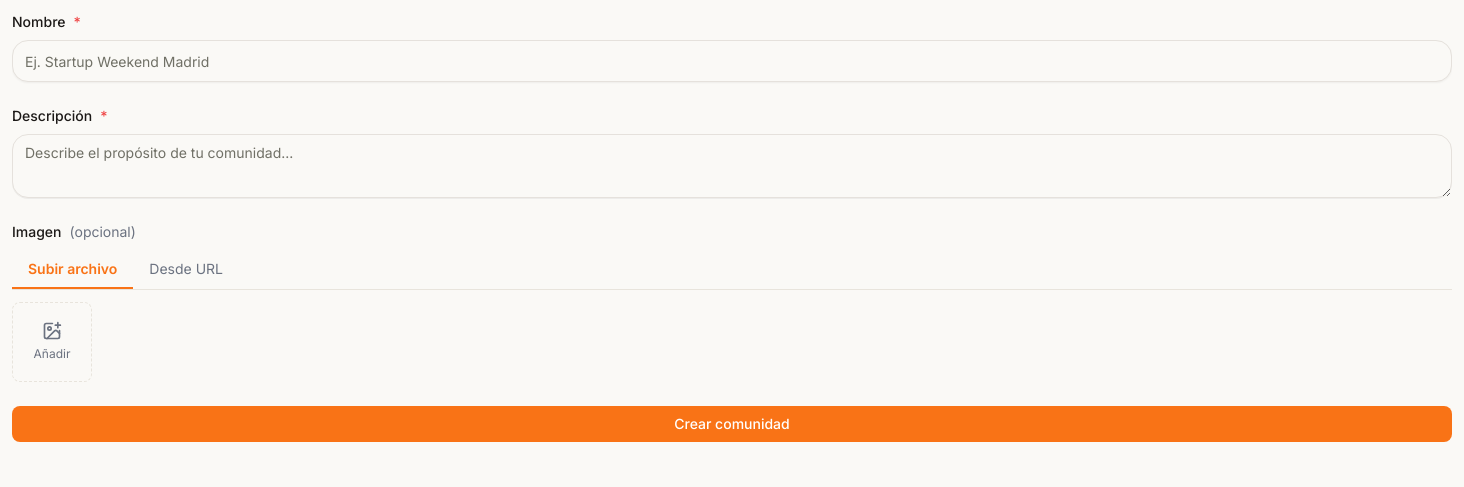
Test: CommunityForm — COMMUNITY_NAME_TAKEN › muestra el error inline bajo el campo name con id="name-error"
Step 1. Type "Mi Comunidad Test" into the field labelled "Nombre *" → (732, 61), box [12, 40, 1452, 82]
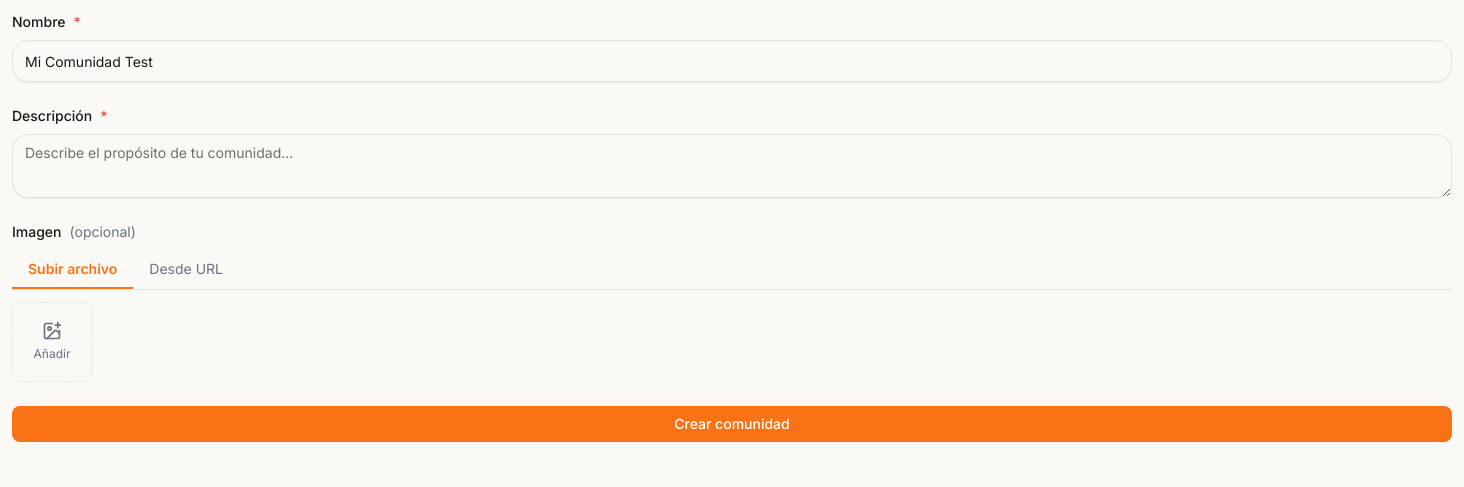
Step 2. Type "Una descripción válida para la comunidad." into the text box labelled "Descripción *" → (732, 166), box [12, 134, 1452, 198]
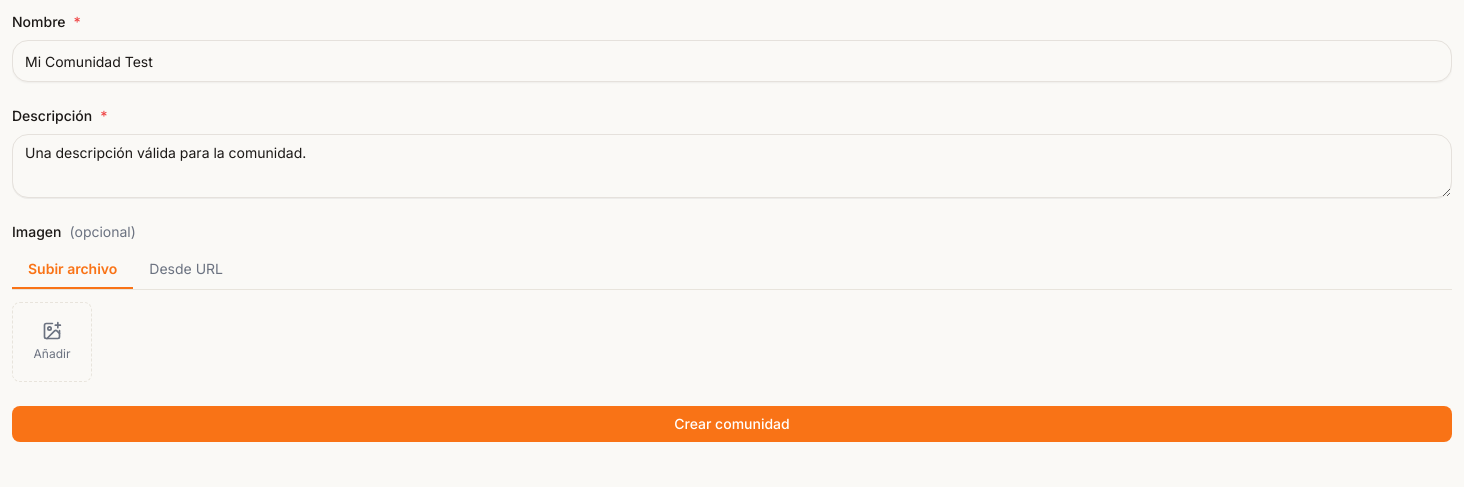
Step 3. Click the button "Crear comunidad" → (732, 424), box [12, 406, 1452, 442]
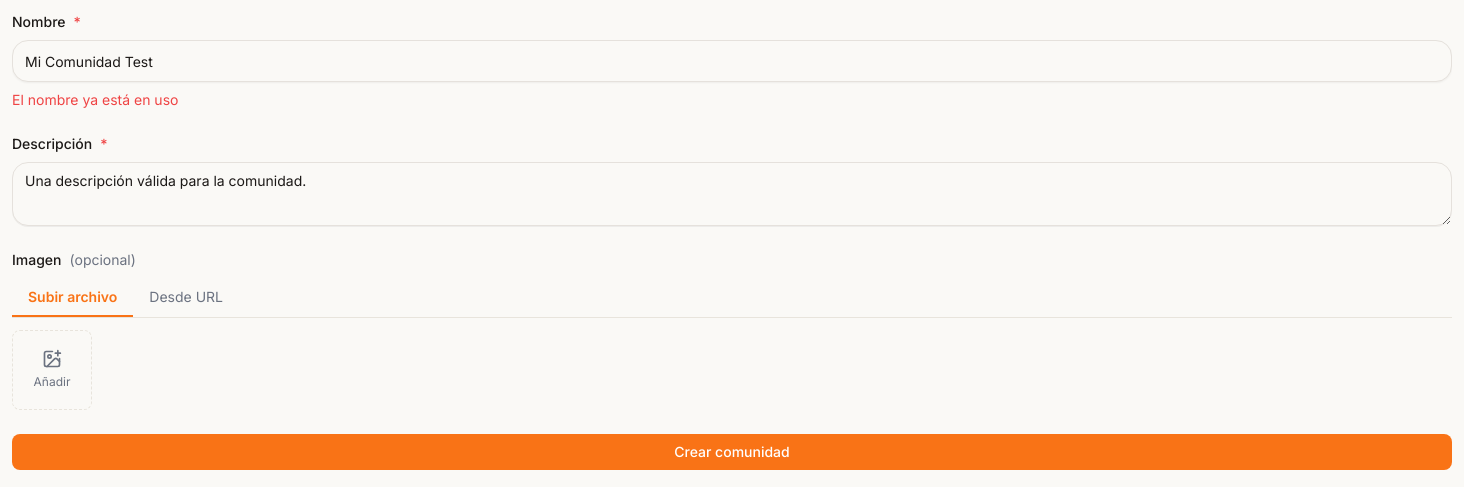
Expected: the text "El nombre ya está en uso" is shown, [12, 91, 178, 108]
